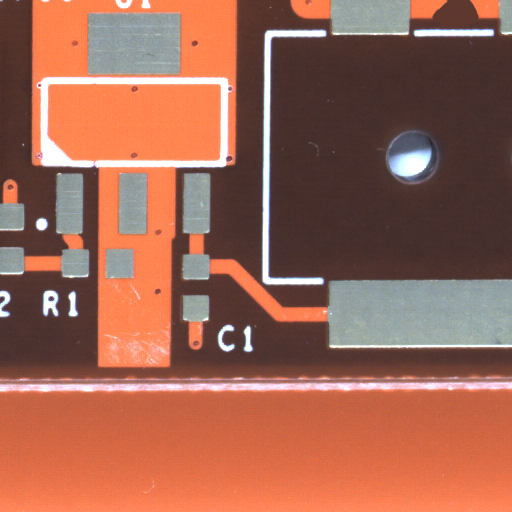Mouse_bite: (455, 13, 510, 39)
